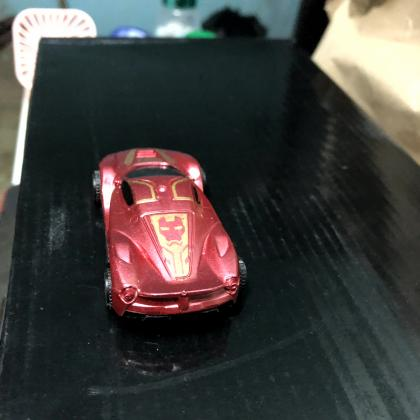Car: (98, 149, 247, 325)
